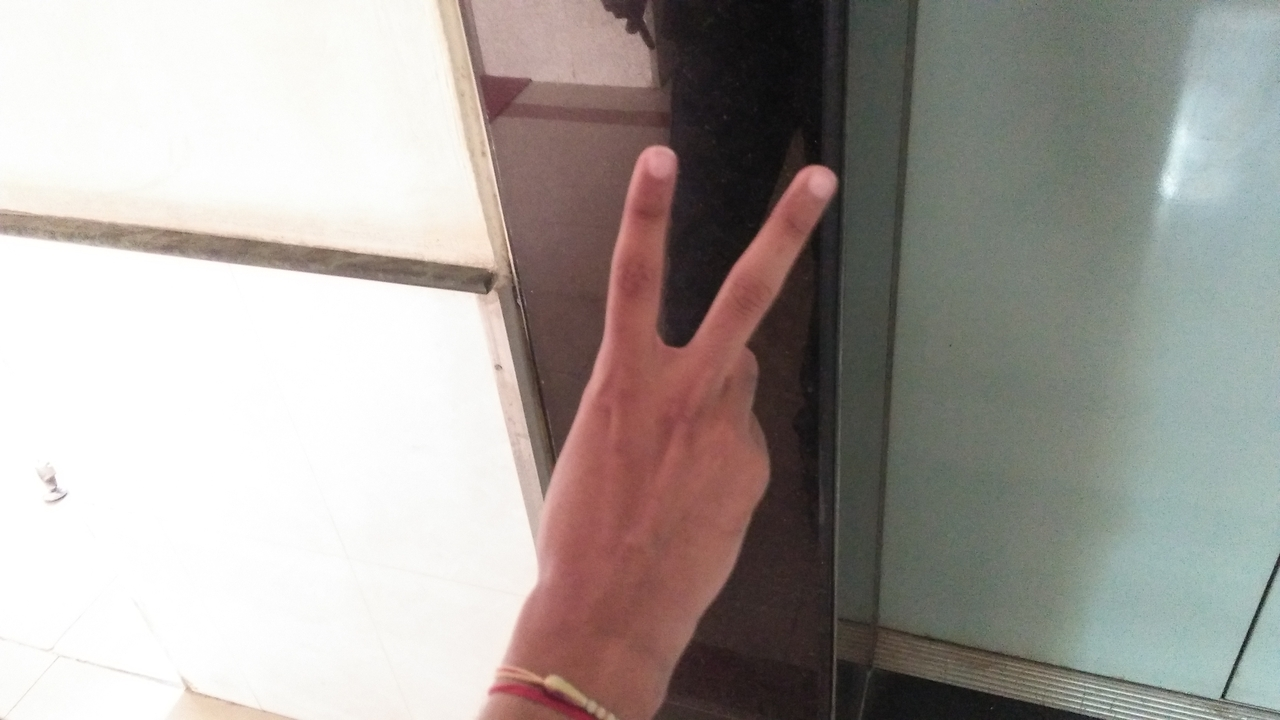fingertip: (620, 134, 682, 196), (784, 154, 846, 210)
